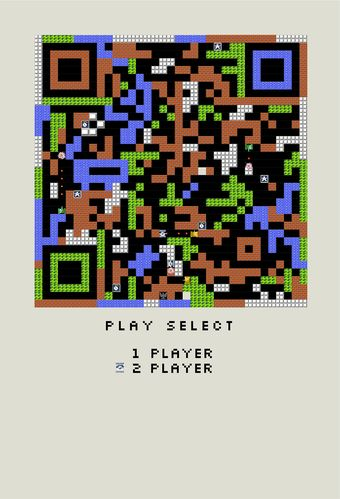QRCode: (26, 31, 319, 314)
